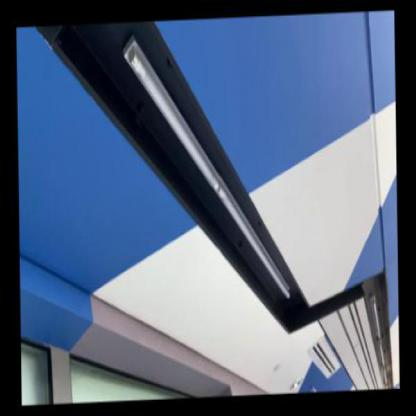light_off: (115, 27, 295, 322)
